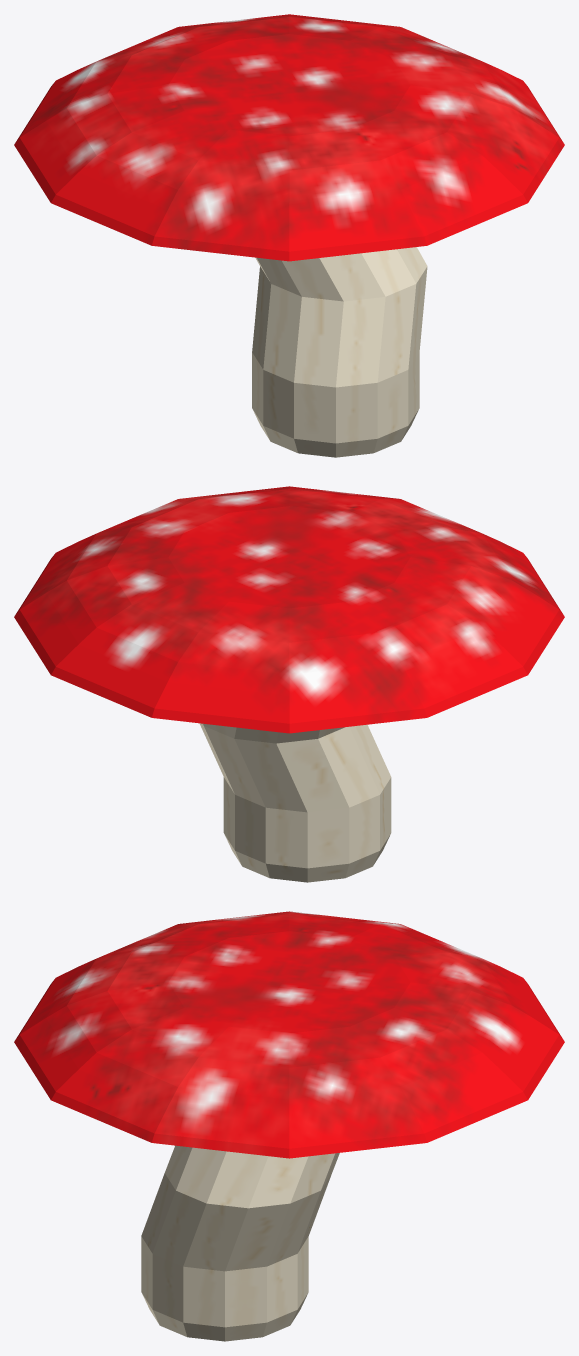
The model's file is mushroom.glb.
3 views of the same model, one above another, from view 1: azimuth 30°, elevation 25°; view 2: azimuth 150°, elevation 25°; view 3: azimuth 270°, elevation 25° (orthographic).
Visible parts, largest first — view 1: Cylinder; view 2: Cylinder; view 3: Cylinder.
Part boxes in pixels (bbox=[...]): Cylinder: bbox=[14, 14, 564, 457]; Cylinder: bbox=[14, 486, 564, 882]; Cylinder: bbox=[14, 911, 564, 1341].
Size of the model in its own units: 0.3289 by 0.2159 by 0.3289.
Materials: 1 (1 with a texture image).
